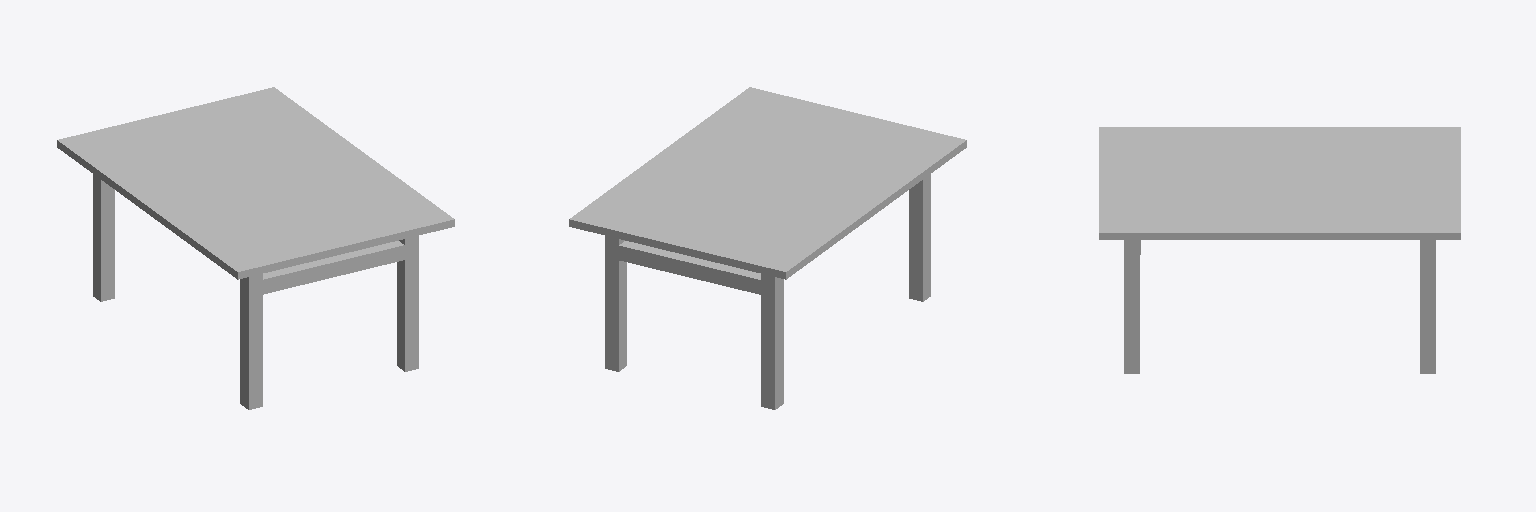
File: table.obj
3 renders of one model, left to right at view 1: azimuth 30°, elevation 25°; view 2: azimuth 150°, elevation 25°; view 3: azimuth 270°, elevation 25°, orthographic.
Parts seen in each view (by area): view 1: Bein_2; view 2: Bein_2; view 3: Bein_2.
Part boxes in pixels (x1,y1,x2,y2): Bein_2: (57, 87, 454, 409); Bein_2: (569, 87, 966, 409); Bein_2: (1099, 127, 1460, 373).
Bounding box in the file's own units: 21.25 × 14.27 × 30.63.